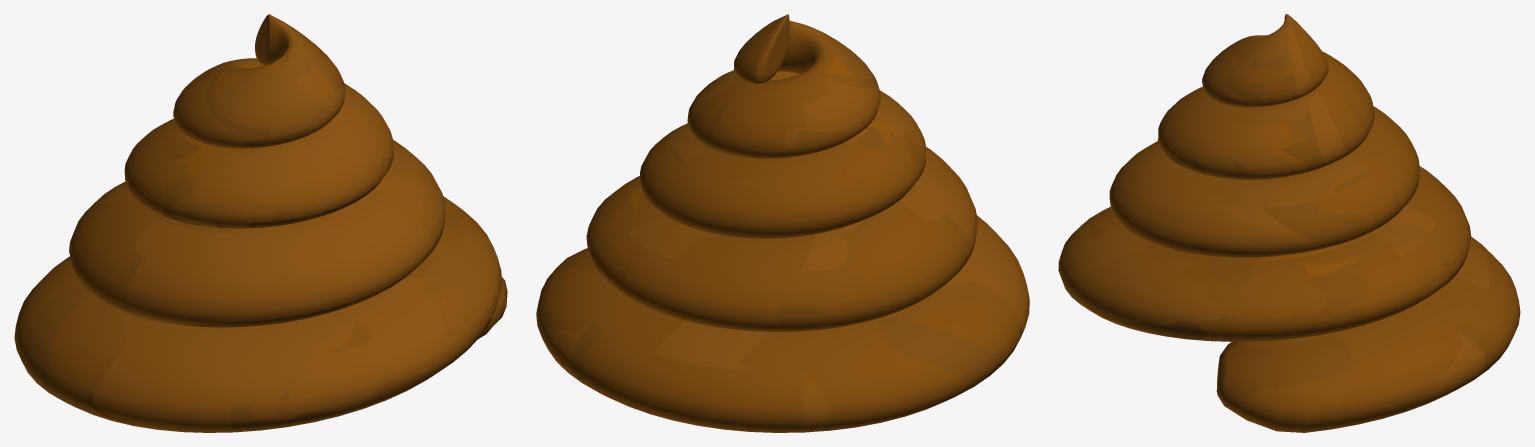
File: Shit_with_simple_texture.fbx
3 renders of one model, left to right at view 1: azimuth 30°, elevation 25°; view 2: azimuth 150°, elevation 25°; view 3: azimuth 270°, elevation 25°, orthographic. The views are drawn at different scales.
Visible parts, largest first — view 1: pHelix2; view 2: pHelix2; view 3: pHelix2.
Boxes of the visible parts, x1,y1,x2,y2 form: pHelix2: (14,14,507,432); pHelix2: (536,14,1029,432); pHelix2: (1058,14,1520,432).
Bounding box in the file's own units: 13.91 × 10.67 × 13.3.
1 material, 1 textured.
